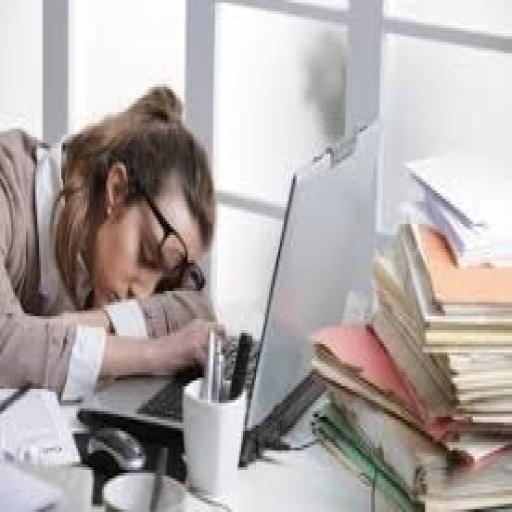sleeping: (0, 81, 226, 400)
